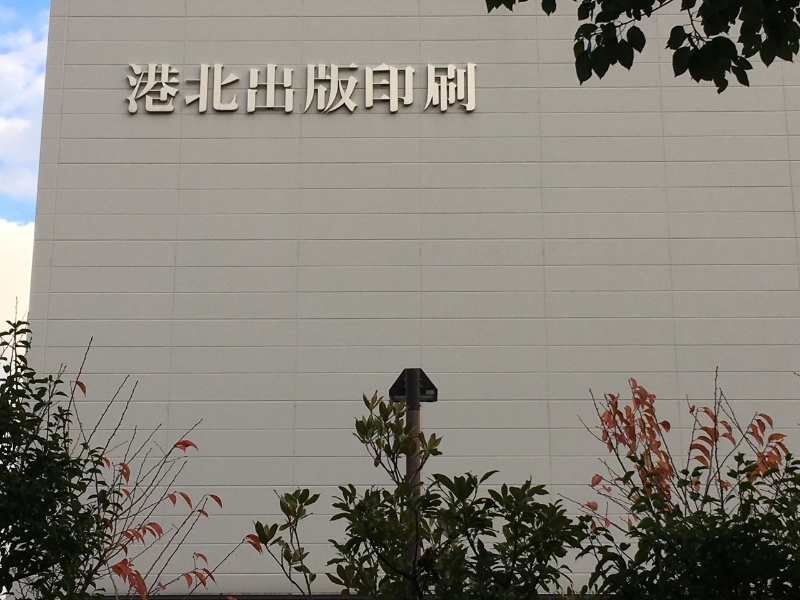text: (129, 62, 144, 117), (145, 62, 160, 117), (161, 62, 176, 117), (177, 62, 192, 117), (193, 62, 208, 117), (209, 62, 224, 117), (225, 62, 240, 117), (241, 62, 256, 117), (257, 62, 272, 117), (273, 62, 288, 117), (289, 62, 304, 117), (305, 62, 320, 117), (321, 62, 336, 117), (337, 62, 352, 117), (353, 62, 368, 117), (369, 62, 384, 117), (385, 62, 400, 117), (401, 62, 416, 117), (417, 62, 432, 117), (433, 62, 448, 117), (449, 62, 464, 117), (465, 62, 479, 117), (124, 62, 128, 117)
